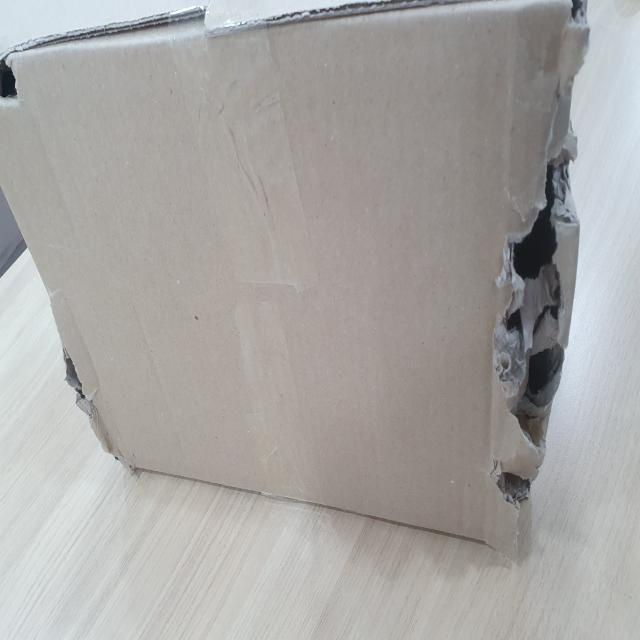hole: (498, 136, 576, 514), (61, 344, 89, 412)
